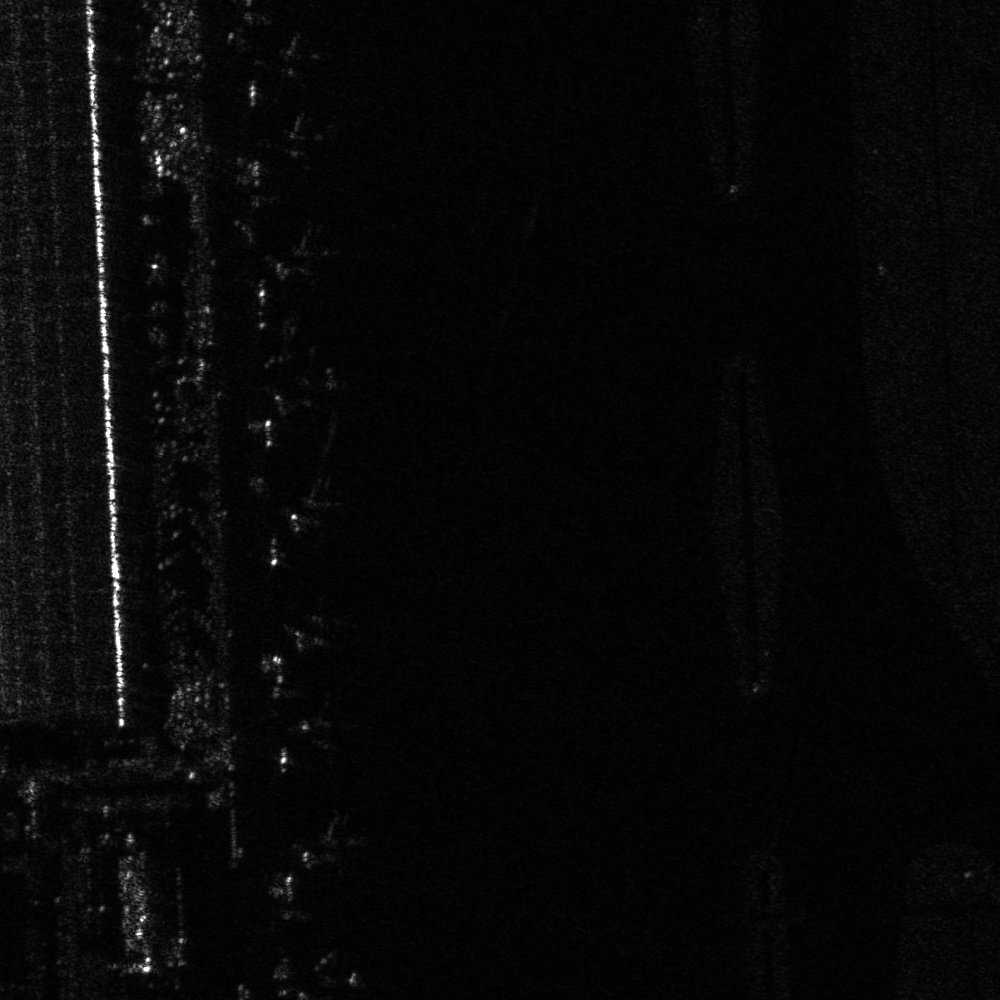A220: (273, 346, 353, 418), (279, 942, 378, 999), (266, 220, 342, 288)
A320/321: (283, 811, 370, 874), (255, 105, 335, 167), (252, 26, 327, 85)
other: (275, 471, 355, 544), (284, 698, 361, 758), (272, 603, 341, 661)
